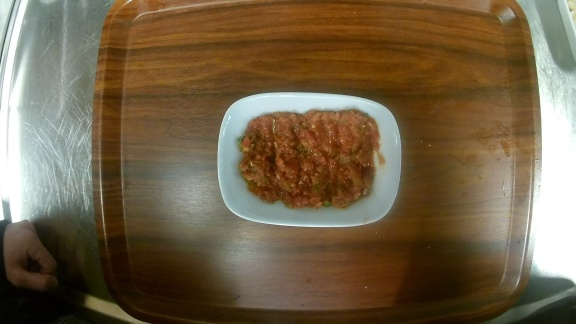acilimeze: (218, 90, 402, 228)
